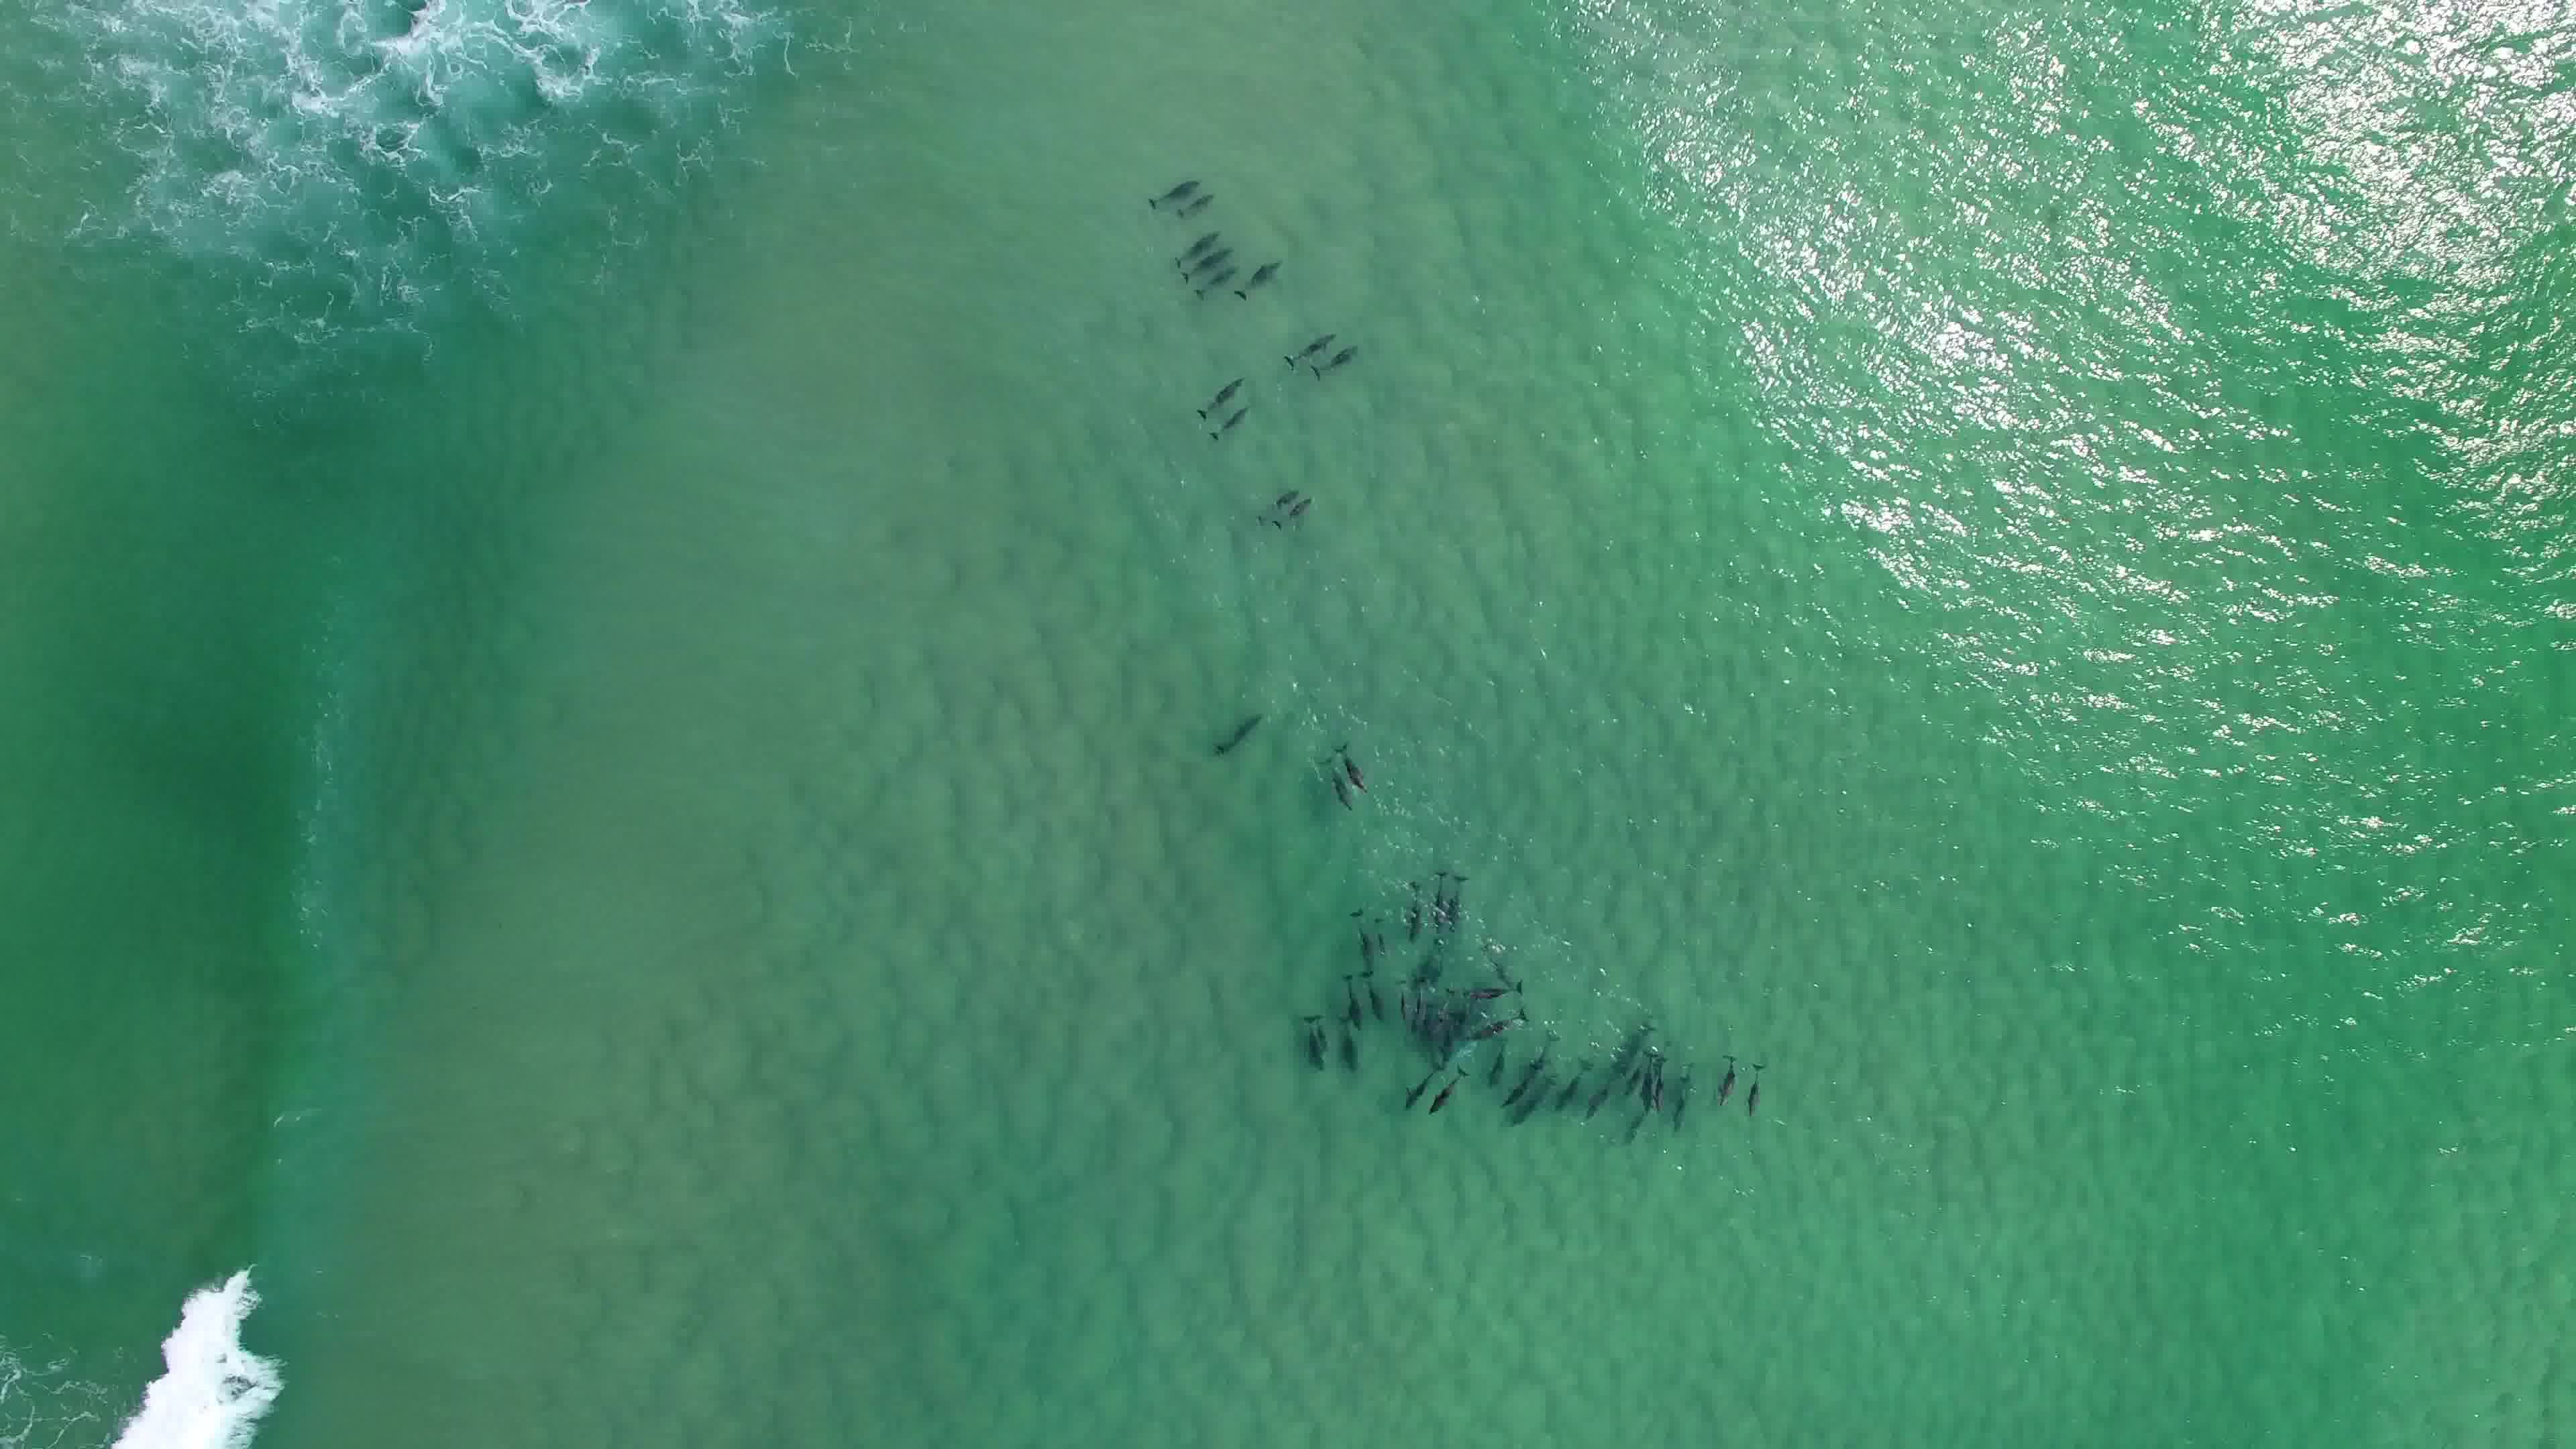dolphin: (1575, 1054, 1633, 1127), (1203, 701, 1267, 761), (1180, 366, 1246, 414), (1311, 754, 1359, 816), (1297, 1003, 1332, 1083), (1200, 395, 1256, 444), (1334, 732, 1376, 798), (1428, 1060, 1470, 1123), (1553, 1047, 1591, 1118), (1226, 253, 1290, 294), (1164, 219, 1224, 260), (1463, 973, 1532, 1008), (1274, 326, 1339, 363), (1350, 899, 1382, 975), (1672, 1053, 1698, 1143), (1741, 1056, 1776, 1122), (1523, 1033, 1555, 1106), (1138, 170, 1200, 207), (1265, 495, 1323, 534), (1162, 186, 1228, 219), (1445, 860, 1470, 948), (1426, 863, 1454, 938), (1359, 959, 1391, 1023), (1309, 341, 1357, 382), (1332, 1000, 1359, 1070), (1716, 1047, 1743, 1118), (1470, 1010, 1536, 1039), (1651, 1039, 1674, 1118), (1189, 260, 1240, 295), (1182, 244, 1238, 276), (1341, 966, 1369, 1030), (1401, 878, 1428, 945), (1481, 1039, 1513, 1093), (1396, 1063, 1435, 1108), (1435, 984, 1460, 1053), (1391, 977, 1417, 1037), (1407, 966, 1430, 1035), (1249, 481, 1300, 511), (1637, 1049, 1658, 1113)
